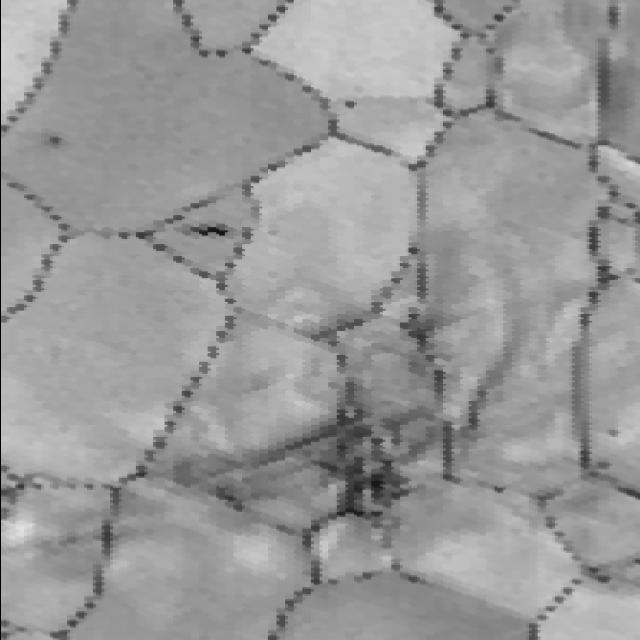good_void: (158, 379, 483, 527), (397, 311, 438, 341), (174, 223, 236, 242), (43, 133, 65, 150), (337, 98, 359, 111), (593, 461, 611, 471), (604, 429, 622, 438)
